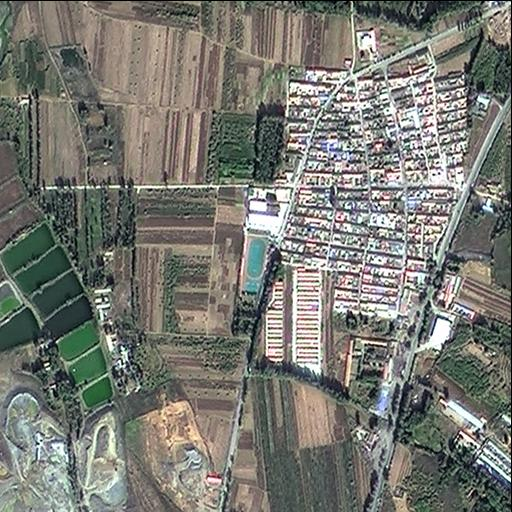school: (231, 183, 293, 340)
